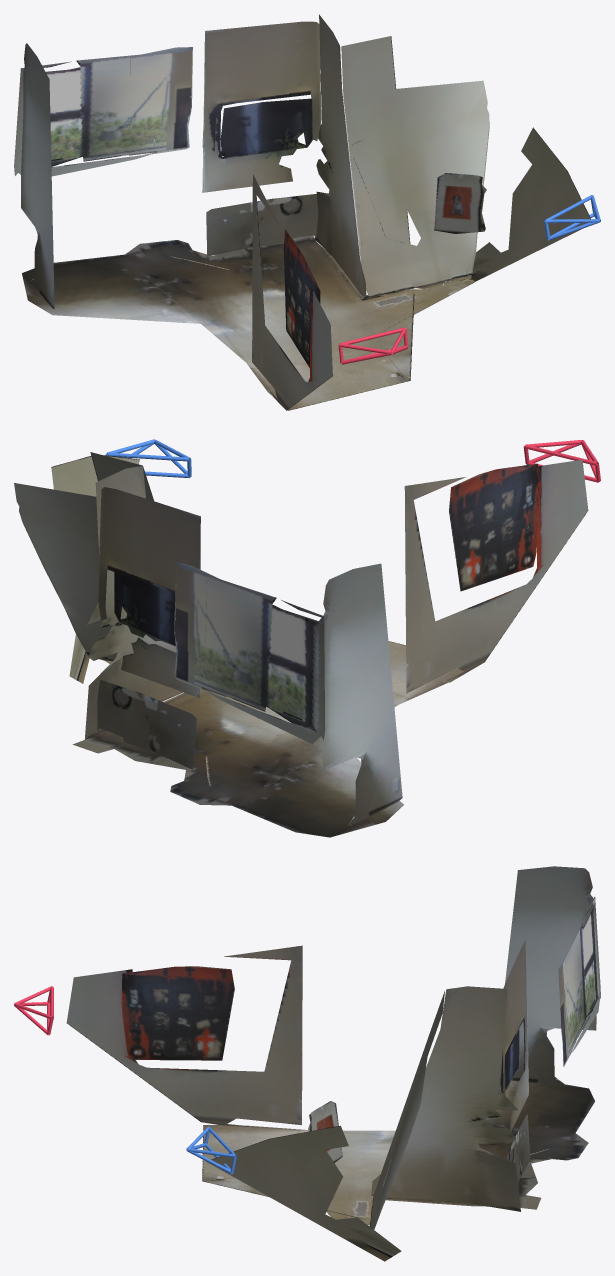
3 renders of one model, top to bottom at view 1: azimuth 30°, elevation 25°; view 2: azimuth 150°, elevation 25°; view 3: azimuth 270°, elevation 25°, orthographic. The views are drawn at different scales.
Visible parts, largest first — view 1: Node; view 2: Node; view 3: Node.
Boxes of the visible parts, x1,y1,x2,y2 form: Node: (14, 14, 600, 410); Node: (14, 439, 600, 837); Node: (14, 866, 600, 1261).
Bounding box in the file's own units: 5.09 × 2.97 × 6.57.
18 materials, 16 textured.
